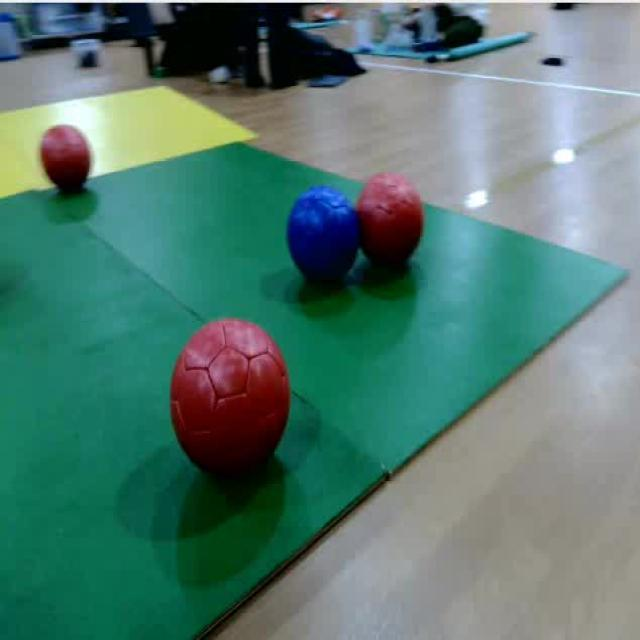blue_ball: (287, 182, 363, 297)
red_ball: (168, 313, 296, 491), (360, 171, 429, 273), (40, 124, 94, 192)
